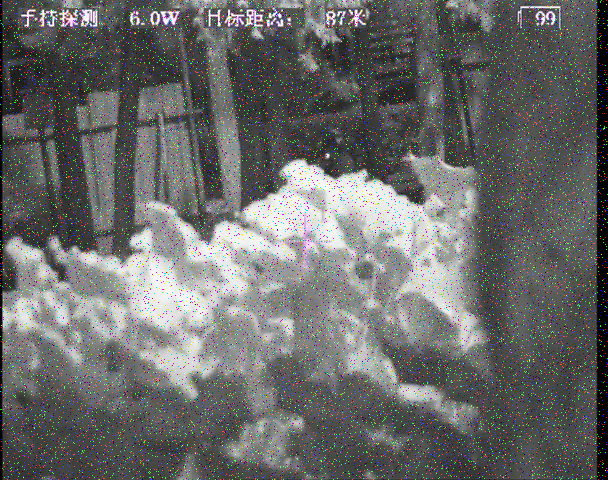my: (324, 151, 332, 160)
